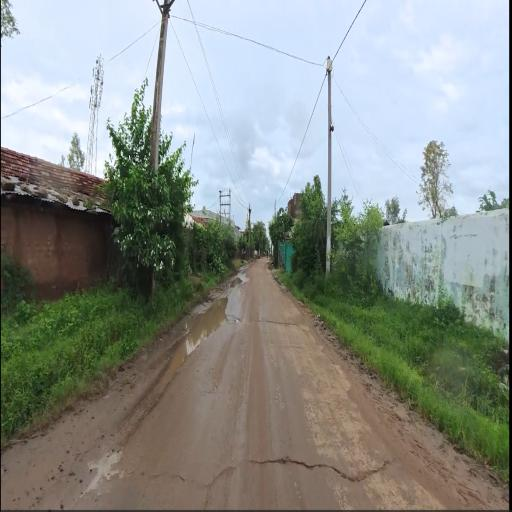longitudinal_crack: (103, 429, 403, 504)
